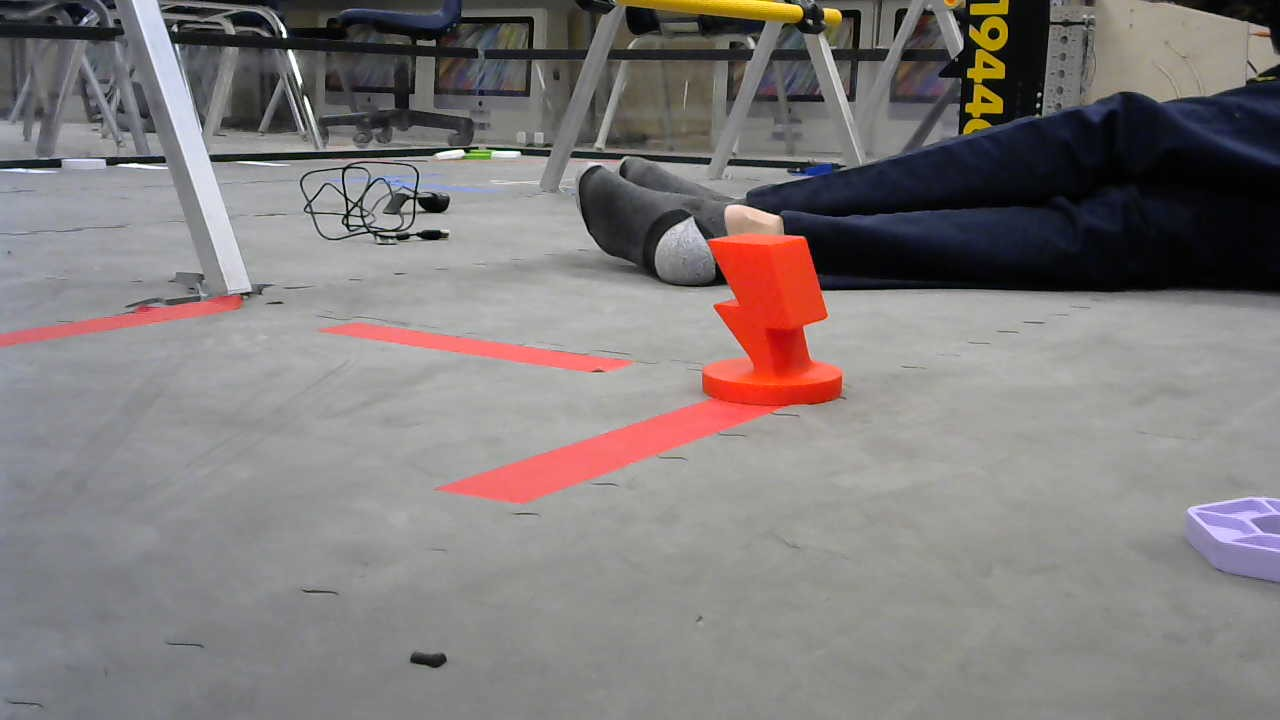redobject: (694, 234, 847, 406)
